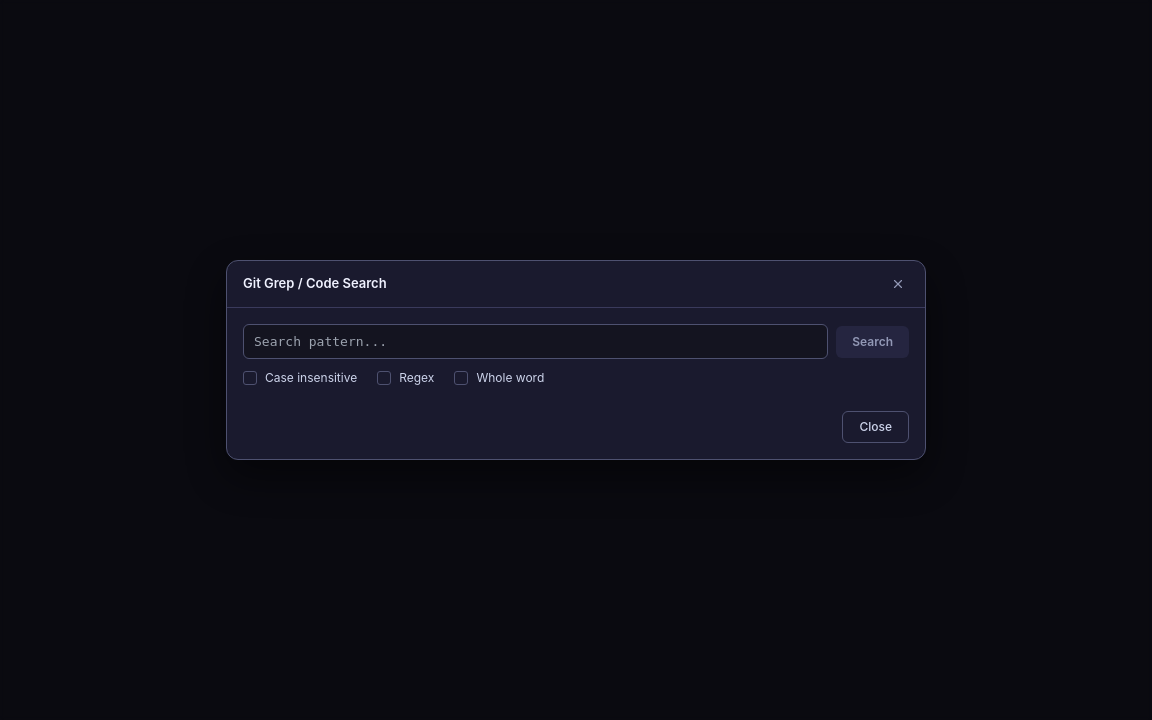
Test: GrepDialog › shows empty-state message when search returns no results
Type "noresult" into the field with placeholder "Search pattern..." at (536, 342), box x1=243 y1=324 x2=828 y2=359
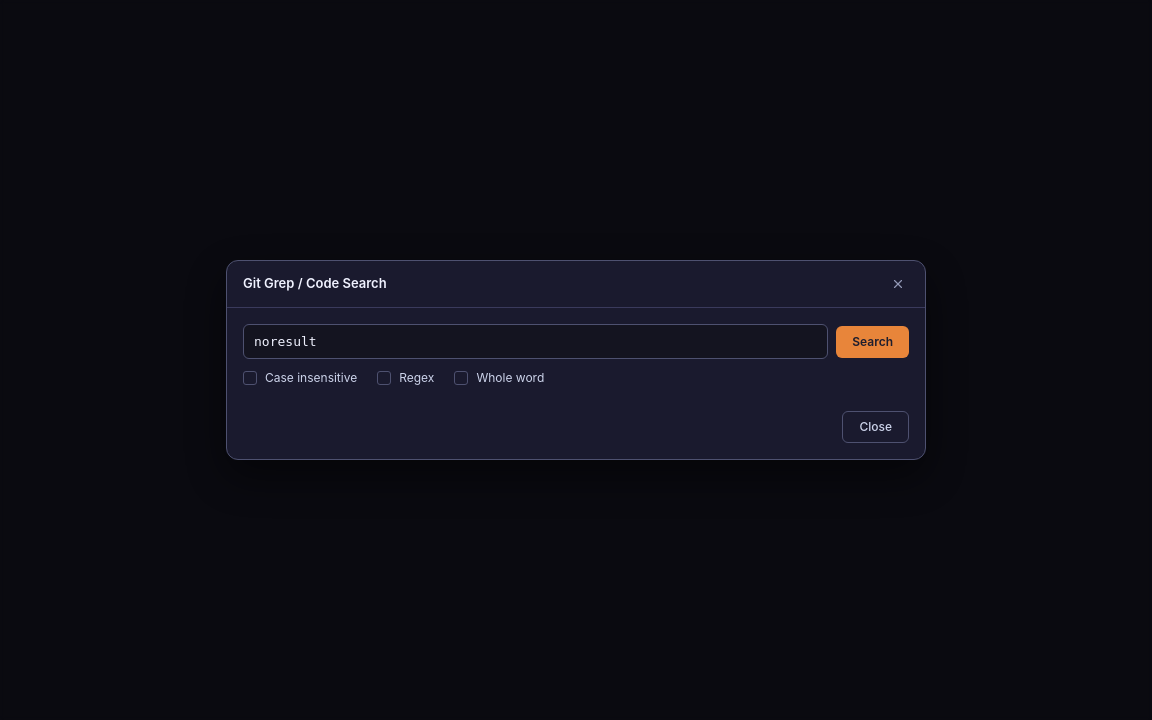
Click the button "Search" at (873, 342), box x1=836 y1=326 x2=909 y2=358
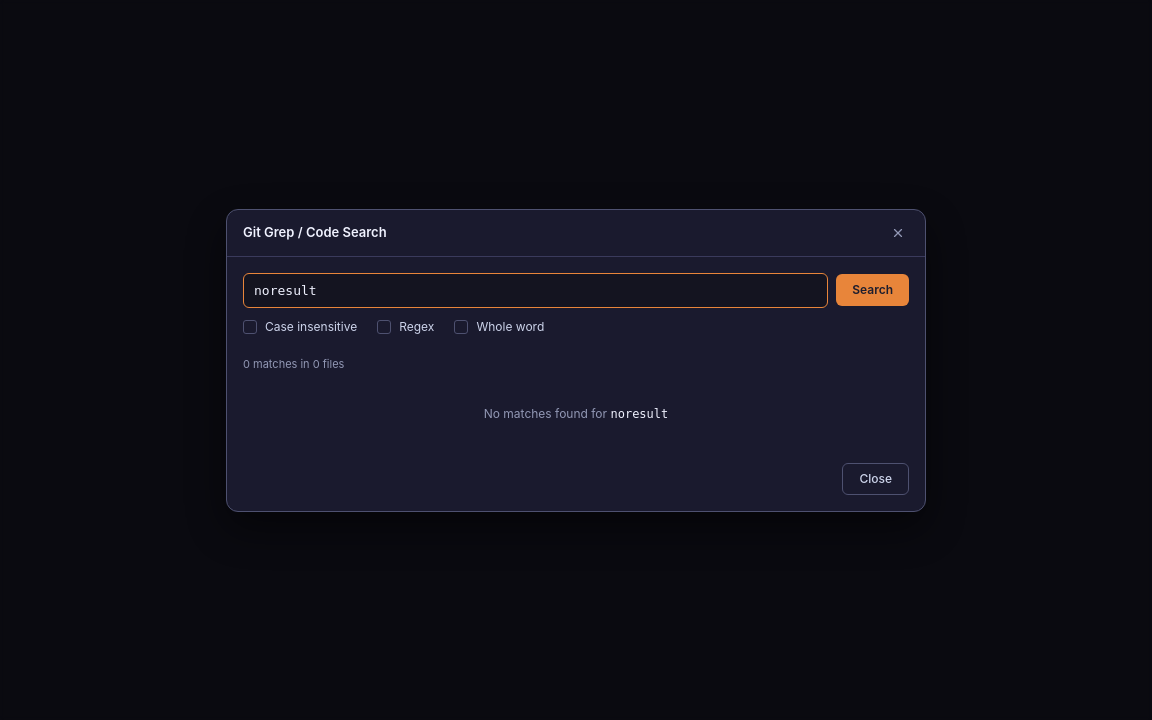
Expected: the text "No matches found for noresult" is shown, x1=484 y1=406 x2=668 y2=420
